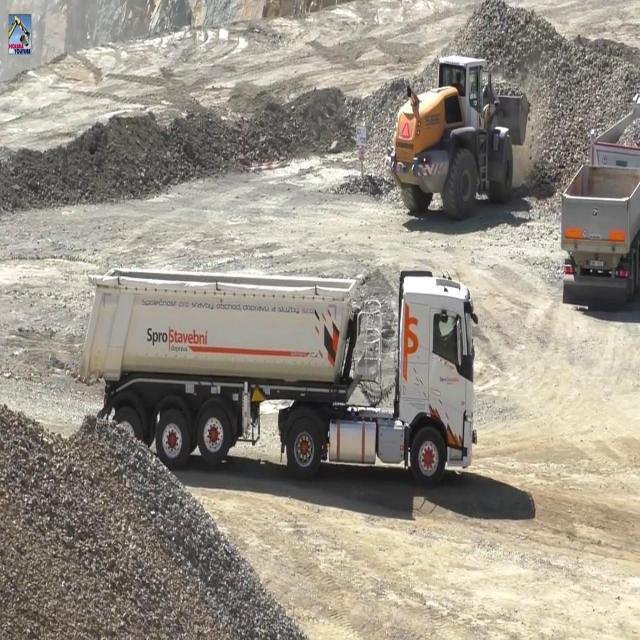Dump Truck: (76, 256, 478, 484), (560, 87, 640, 314)
Loader: (386, 53, 531, 223)
